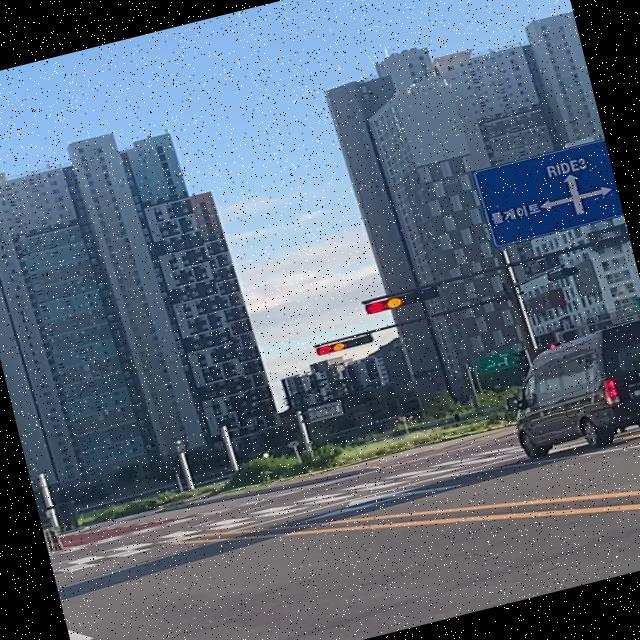yellow_light: (364, 286, 440, 315), (316, 335, 374, 355)
